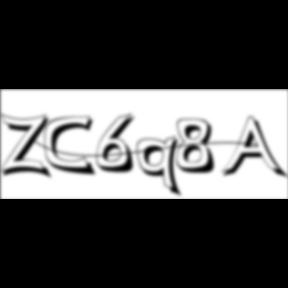6: (96, 112, 142, 176)
8: (176, 117, 222, 176)
C: (44, 115, 100, 178)
Z: (1, 112, 55, 181)
q: (138, 135, 186, 200)
